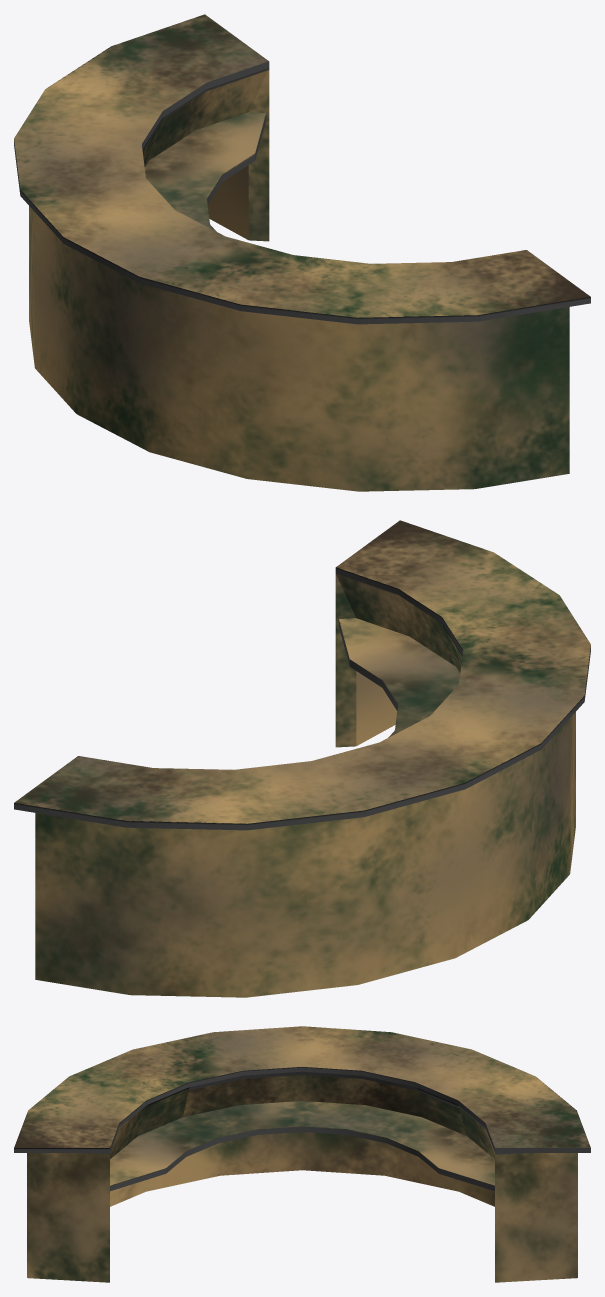
Rendered from Semi-circle reception table.FBX.
The picture shows the model from 3 angles, top to bottom: view 1: azimuth 30°, elevation 25°; view 2: azimuth 150°, elevation 25°; view 3: azimuth 270°, elevation 25°; orthographic projection. The views are drawn at different scales.
Parts seen in each view (by area): view 1: Box001; view 2: Box001; view 3: Box001.
Boxes of the visible parts, <box> form: Box001: <box>14,14,590,491</box>; Box001: <box>14,520,590,997</box>; Box001: <box>14,1026,590,1282</box>.
Size of the model in its own units: 26.2 by 13.49 by 52.41.
1 material, 1 textured.
